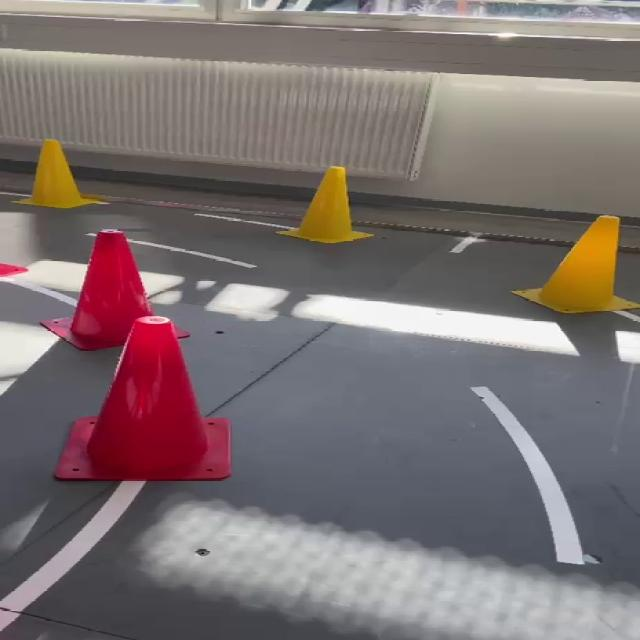Cone-red: (55, 316, 229, 479), (47, 230, 152, 349)
Cones-yellow: (512, 216, 639, 313), (280, 167, 371, 243), (17, 139, 103, 208)
